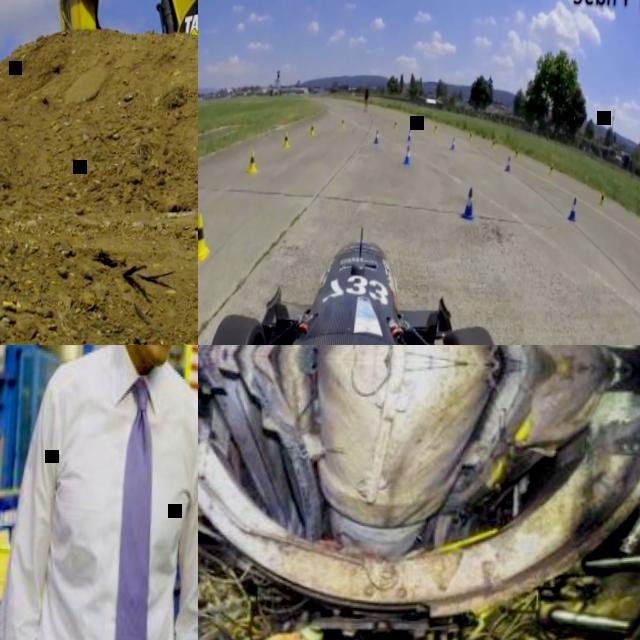Hardhat: (298, 624, 326, 640)
NO-Mask: (122, 345, 186, 368)
NO-Safety Vest: (28, 345, 198, 640), (366, 90, 370, 101)
Person: (0, 345, 198, 640), (248, 621, 342, 640), (364, 86, 370, 112)
Safety Cone: (198, 214, 216, 265), (461, 189, 478, 225), (567, 197, 581, 228), (248, 151, 259, 176), (403, 145, 414, 169), (283, 132, 292, 151), (504, 155, 512, 175), (373, 130, 381, 148), (599, 191, 606, 210), (548, 166, 556, 182), (450, 138, 457, 154), (513, 147, 520, 162), (407, 129, 414, 144), (490, 140, 497, 153), (310, 123, 316, 138), (469, 131, 474, 144), (434, 124, 439, 136), (394, 120, 399, 131), (341, 119, 346, 130)
vehicle: (198, 214, 529, 345), (46, 0, 198, 170)
